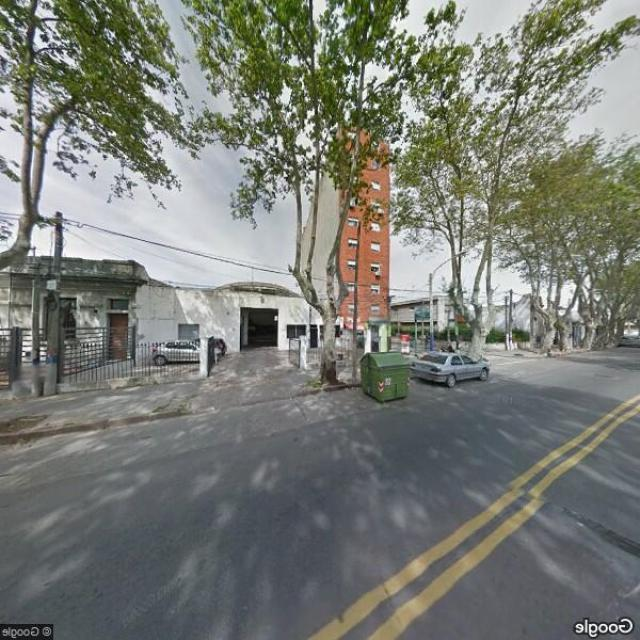garbage container: (353, 348, 414, 405)
